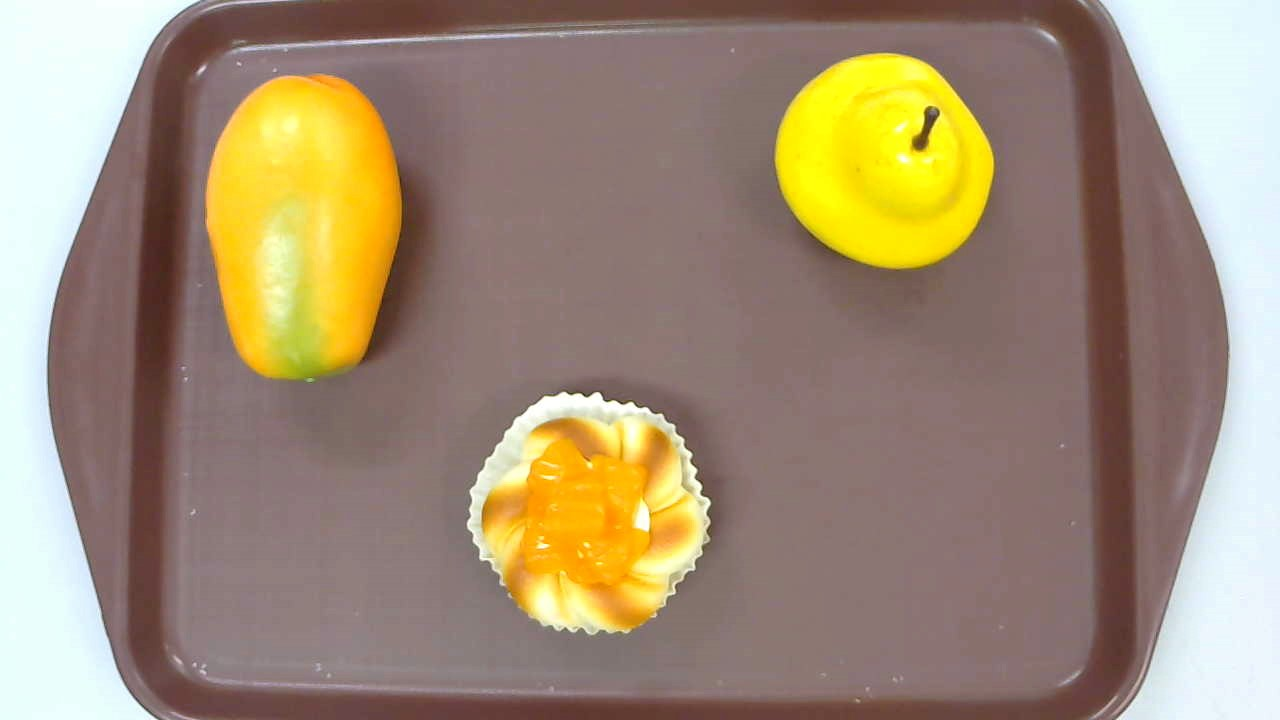mango tart: (468, 390, 712, 637)
papya: (205, 72, 402, 383)
yellow pear: (773, 52, 995, 272)
